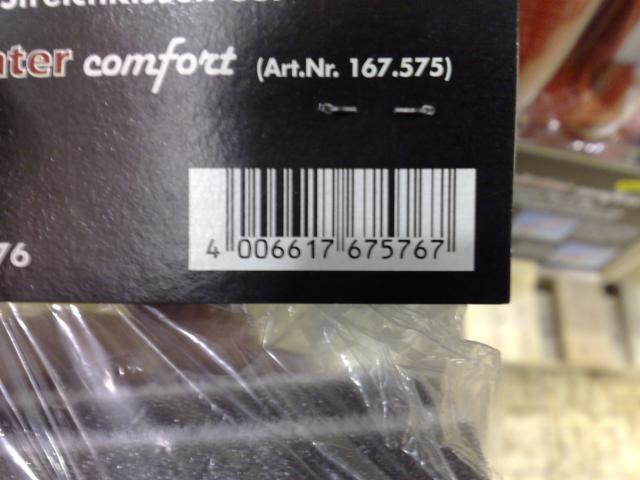Barcode: (201, 166, 470, 267)
